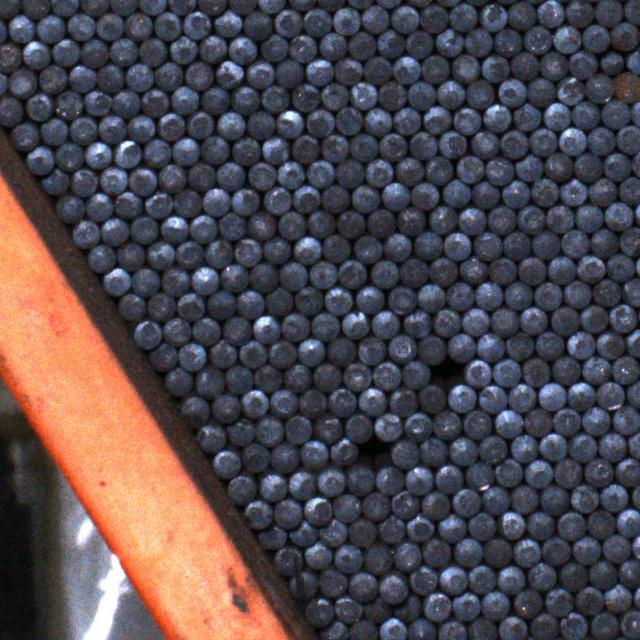tool: (362, 540, 391, 572), (303, 496, 333, 526), (269, 442, 299, 472), (432, 409, 462, 439), (448, 436, 478, 466), (272, 546, 302, 576), (345, 463, 374, 494), (393, 541, 422, 571), (304, 596, 333, 626), (379, 573, 408, 603), (391, 440, 420, 470), (289, 570, 318, 600), (258, 472, 287, 502), (312, 413, 341, 443), (438, 566, 468, 595), (422, 538, 452, 567), (409, 564, 438, 594), (422, 490, 451, 519), (450, 487, 479, 516), (477, 436, 506, 465), (600, 98, 629, 127), (604, 201, 633, 230), (422, 592, 451, 621), (453, 538, 482, 567), (465, 462, 494, 491), (404, 464, 433, 493), (389, 387, 418, 416), (399, 258, 428, 287), (522, 24, 550, 54), (403, 412, 431, 442), (8, 68, 36, 98), (540, 484, 568, 514), (250, 264, 278, 294), (181, 397, 209, 427), (481, 589, 509, 619), (255, 416, 283, 446), (317, 568, 347, 596), (349, 572, 377, 602), (273, 500, 301, 530), (334, 543, 364, 571), (483, 536, 511, 566), (196, 365, 223, 396), (581, 407, 609, 436), (230, 87, 258, 116), (508, 0, 536, 29), (478, 3, 506, 32), (446, 334, 474, 363), (430, 257, 458, 286), (245, 499, 273, 528), (532, 230, 560, 259), (525, 563, 554, 591), (332, 493, 360, 522), (494, 28, 522, 57), (319, 518, 348, 546), (248, 212, 276, 241), (586, 127, 614, 156), (318, 467, 346, 496), (597, 433, 625, 462), (407, 81, 435, 110), (348, 518, 376, 547), (510, 485, 538, 514), (420, 437, 448, 466), (382, 232, 410, 261), (586, 511, 614, 540), (611, 22, 639, 51), (484, 157, 512, 186), (498, 566, 526, 595), (241, 444, 269, 473), (373, 413, 402, 441), (344, 414, 372, 443), (588, 230, 617, 258), (585, 75, 613, 104), (212, 394, 240, 423), (300, 440, 328, 469), (435, 464, 464, 492), (447, 384, 476, 412), (464, 409, 492, 438), (468, 566, 497, 594), (362, 493, 391, 521), (451, 592, 480, 620), (545, 203, 573, 232), (299, 388, 327, 417), (513, 588, 541, 617), (500, 129, 528, 158), (437, 514, 466, 542), (375, 466, 403, 495), (285, 414, 312, 444), (613, 73, 640, 103), (183, 11, 211, 39), (335, 160, 363, 188), (294, 286, 322, 314), (54, 142, 82, 170), (306, 161, 334, 189), (277, 263, 305, 291), (584, 459, 612, 487), (228, 37, 256, 65), (132, 320, 160, 348), (116, 242, 144, 270), (393, 56, 421, 84), (324, 286, 352, 314), (220, 264, 248, 292), (523, 459, 551, 487), (101, 268, 129, 296), (358, 388, 386, 416), (372, 311, 400, 339), (276, 161, 304, 189), (222, 316, 250, 344), (525, 77, 553, 105), (482, 104, 510, 132), (575, 586, 603, 614), (218, 112, 246, 140), (422, 56, 450, 84), (553, 460, 581, 488), (348, 134, 376, 162), (389, 336, 417, 364), (227, 476, 255, 504), (455, 155, 483, 183), (417, 283, 445, 311), (352, 234, 380, 262), (425, 156, 453, 184), (310, 311, 338, 339), (542, 102, 570, 130), (350, 185, 378, 213), (575, 255, 603, 283), (493, 359, 521, 387), (346, 31, 374, 59), (609, 305, 637, 333), (574, 203, 602, 231), (448, 4, 476, 32), (572, 537, 600, 565), (542, 538, 570, 566), (569, 434, 597, 462), (480, 54, 508, 82), (579, 305, 607, 333), (552, 357, 580, 385), (468, 512, 496, 540), (140, 90, 168, 118), (536, 332, 564, 360), (508, 384, 536, 412), (592, 277, 620, 305), (190, 266, 218, 294), (552, 25, 580, 53), (510, 53, 538, 81), (504, 280, 532, 308), (8, 13, 36, 41), (598, 483, 626, 511), (370, 260, 398, 288), (471, 130, 499, 158), (267, 339, 295, 367), (538, 382, 566, 410), (474, 233, 502, 261), (595, 331, 623, 359), (326, 388, 354, 416), (282, 363, 310, 391), (197, 425, 225, 453), (424, 105, 452, 133), (450, 55, 478, 83), (587, 176, 615, 204), (544, 154, 572, 182), (486, 206, 514, 234), (524, 511, 552, 539), (433, 308, 461, 336), (605, 254, 633, 282), (570, 101, 598, 129), (498, 512, 526, 540), (544, 587, 572, 615), (522, 408, 550, 436), (568, 51, 596, 79), (527, 128, 555, 156), (493, 409, 521, 437), (517, 257, 545, 285), (534, 281, 562, 309), (547, 255, 575, 283), (557, 562, 585, 590), (513, 102, 541, 130), (11, 124, 39, 152), (110, 89, 138, 117), (406, 514, 434, 542), (556, 512, 583, 541), (215, 161, 242, 190), (521, 358, 548, 387), (560, 229, 587, 258), (392, 4, 419, 33), (155, 62, 182, 91), (477, 333, 504, 362), (56, 194, 83, 223), (147, 240, 174, 269), (503, 232, 530, 261), (418, 336, 445, 365), (161, 267, 188, 296), (378, 82, 405, 111), (575, 153, 602, 182), (499, 79, 526, 108), (605, 583, 632, 612), (287, 519, 316, 546), (528, 613, 557, 640), (287, 471, 314, 500), (163, 318, 190, 346), (198, 36, 225, 64), (292, 184, 320, 211), (567, 331, 595, 358), (213, 449, 240, 477), (73, 218, 100, 246), (349, 82, 376, 110), (235, 290, 262, 318), (277, 212, 304, 240), (70, 115, 97, 143), (233, 238, 260, 266), (81, 39, 108, 67), (589, 612, 616, 640), (125, 12, 152, 40), (568, 382, 595, 410), (290, 85, 318, 112), (192, 317, 219, 345), (280, 312, 307, 340), (566, 0, 594, 27), (540, 52, 567, 80), (418, 384, 445, 412), (100, 217, 128, 244), (552, 408, 580, 435), (307, 209, 334, 237), (372, 360, 399, 388), (86, 194, 113, 222), (200, 136, 228, 163), (189, 214, 216, 242), (110, 38, 137, 66), (365, 160, 392, 188), (380, 182, 407, 210), (261, 86, 288, 114), (613, 356, 640, 384), (23, 40, 50, 68), (557, 128, 584, 156), (412, 233, 440, 260), (559, 612, 586, 640), (367, 208, 395, 235), (150, 344, 177, 372), (495, 460, 523, 487), (444, 233, 471, 261), (205, 292, 233, 319), (556, 76, 583, 104), (41, 116, 68, 144), (320, 134, 347, 162), (203, 239, 230, 267), (144, 190, 172, 217), (274, 59, 302, 86), (186, 163, 213, 191), (421, 5, 448, 33), (355, 285, 382, 313), (249, 162, 276, 190), (172, 189, 199, 217), (338, 261, 365, 289), (462, 308, 489, 336), (336, 210, 364, 237), (305, 58, 332, 86), (185, 62, 212, 90), (538, 434, 565, 462), (174, 240, 201, 268), (342, 363, 369, 391), (596, 382, 624, 409), (157, 112, 184, 140), (362, 57, 389, 85), (582, 357, 610, 384), (128, 168, 156, 195), (253, 363, 280, 391), (588, 560, 615, 588), (245, 10, 272, 38), (482, 487, 509, 515), (379, 134, 406, 162), (408, 131, 436, 158), (519, 306, 546, 334), (269, 388, 296, 416), (613, 406, 640, 434), (463, 28, 490, 56), (303, 8, 330, 36), (502, 180, 529, 208), (403, 360, 430, 388), (165, 368, 192, 396), (601, 534, 628, 562), (389, 286, 416, 314), (215, 8, 242, 36), (562, 278, 589, 306), (604, 152, 631, 180), (392, 492, 419, 520), (581, 24, 608, 52), (428, 206, 455, 234), (225, 364, 252, 392), (54, 90, 81, 118), (127, 115, 154, 143), (465, 79, 492, 107), (247, 61, 274, 89), (452, 106, 479, 134), (516, 204, 543, 232), (436, 29, 464, 56), (510, 435, 537, 463), (326, 338, 354, 365), (266, 287, 293, 315), (306, 109, 333, 137), (551, 306, 578, 334), (356, 336, 383, 364), (479, 384, 506, 412), (331, 436, 358, 464), (490, 310, 517, 338), (374, 518, 402, 545), (571, 483, 598, 511), (471, 182, 499, 209), (26, 147, 53, 175), (515, 154, 542, 182), (513, 539, 540, 567), (302, 543, 330, 570), (227, 417, 254, 445), (394, 593, 422, 620), (446, 280, 472, 309), (276, 109, 302, 138), (248, 111, 275, 138), (405, 31, 432, 58), (231, 188, 258, 215), (394, 108, 421, 135), (158, 165, 185, 192), (202, 187, 229, 214), (323, 184, 350, 211), (177, 344, 204, 371), (160, 215, 187, 242), (293, 237, 320, 264), (308, 262, 335, 289), (216, 61, 243, 88), (262, 236, 289, 263), (130, 216, 157, 243), (200, 87, 227, 114), (125, 63, 152, 90), (263, 185, 290, 212), (394, 159, 421, 186), (411, 182, 438, 209), (312, 364, 339, 391), (439, 131, 466, 158), (232, 137, 259, 164), (537, 0, 564, 27), (169, 36, 196, 63), (71, 170, 98, 197), (154, 11, 181, 38), (457, 206, 484, 233), (176, 292, 203, 319), (37, 15, 64, 42), (437, 80, 464, 107), (559, 177, 586, 204), (335, 597, 362, 624), (376, 29, 403, 56), (440, 181, 467, 208), (506, 332, 533, 359), (208, 339, 235, 366), (98, 115, 124, 143), (335, 108, 361, 136), (131, 269, 157, 297), (253, 316, 279, 344), (240, 389, 266, 417), (364, 108, 392, 134), (171, 88, 197, 116), (119, 292, 145, 320), (172, 137, 198, 165), (146, 292, 172, 320), (274, 10, 300, 38), (290, 33, 316, 61), (144, 140, 170, 168), (292, 134, 318, 162), (593, 0, 621, 26), (334, 58, 362, 84), (96, 63, 122, 91), (318, 31, 344, 59), (38, 64, 64, 92), (530, 179, 556, 207), (113, 190, 139, 218), (398, 206, 424, 234), (333, 8, 359, 36), (464, 360, 490, 388), (475, 280, 501, 308), (138, 38, 164, 66), (66, 12, 94, 38), (263, 136, 289, 164), (362, 4, 388, 32), (25, 93, 51, 121), (487, 258, 515, 284), (42, 168, 70, 194), (458, 257, 486, 283), (364, 596, 392, 622), (615, 456, 640, 485), (616, 124, 640, 154), (324, 234, 350, 261), (261, 34, 287, 61), (88, 245, 114, 272), (52, 38, 78, 65), (95, 12, 122, 38), (187, 110, 213, 137), (114, 140, 140, 167), (84, 141, 110, 168), (100, 168, 126, 195), (217, 212, 243, 239), (341, 311, 367, 338), (238, 340, 264, 367), (322, 83, 348, 110), (404, 310, 431, 336), (298, 338, 323, 366), (68, 66, 94, 92), (85, 91, 111, 117), (616, 509, 640, 537), (499, 616, 527, 640), (259, 524, 287, 548), (468, 617, 497, 640), (0, 96, 22, 125), (618, 175, 640, 203), (379, 618, 407, 640), (409, 618, 437, 640), (0, 42, 21, 71), (619, 227, 640, 256), (437, 619, 466, 640), (600, 51, 625, 75), (618, 560, 640, 587), (320, 620, 349, 640), (620, 609, 640, 637), (348, 620, 376, 640), (622, 276, 640, 305), (22, 0, 50, 18), (80, 0, 109, 15), (625, 327, 640, 355), (624, 0, 640, 25), (198, 0, 226, 14), (626, 45, 640, 73), (52, 0, 78, 15), (137, 0, 164, 14), (110, 0, 136, 14), (258, 0, 286, 13), (167, 0, 194, 13), (229, 0, 256, 13), (627, 381, 640, 408), (628, 431, 640, 458), (0, 0, 19, 17), (630, 98, 640, 127), (286, 0, 314, 10), (316, 0, 344, 10), (631, 532, 640, 560), (631, 483, 640, 511), (631, 151, 640, 179), (375, 0, 402, 8), (403, 0, 433, 7), (347, 0, 372, 8), (633, 585, 640, 611), (633, 201, 640, 227), (435, 0, 463, 6), (0, 70, 6, 97), (634, 252, 640, 279), (460, 0, 490, 5), (0, 17, 5, 45)
void: (355, 440, 391, 471), (429, 359, 466, 387)
